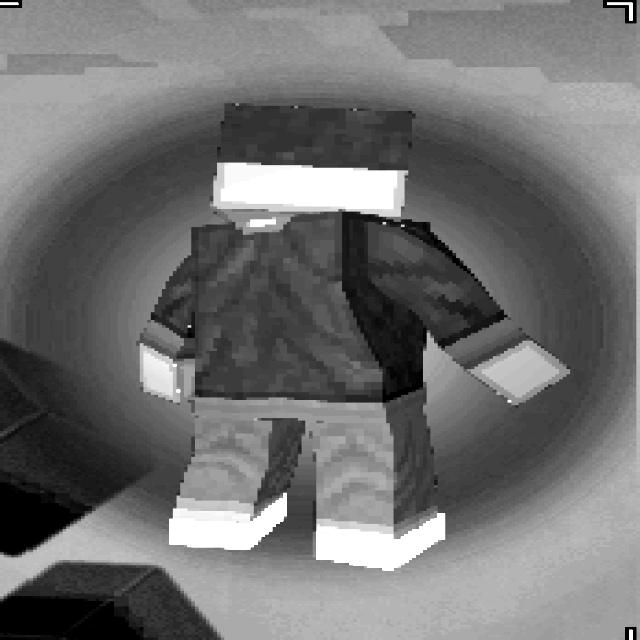Head: (206, 100, 412, 224)
Player: (133, 101, 570, 570)
